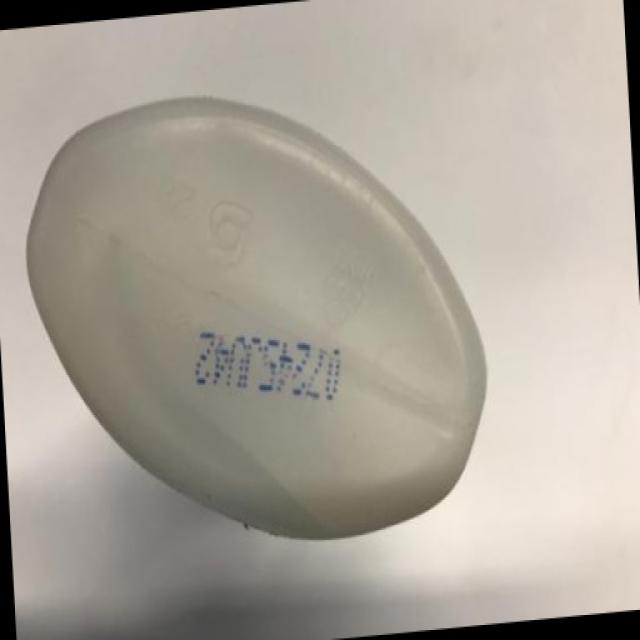plastico: (19, 84, 526, 584)
